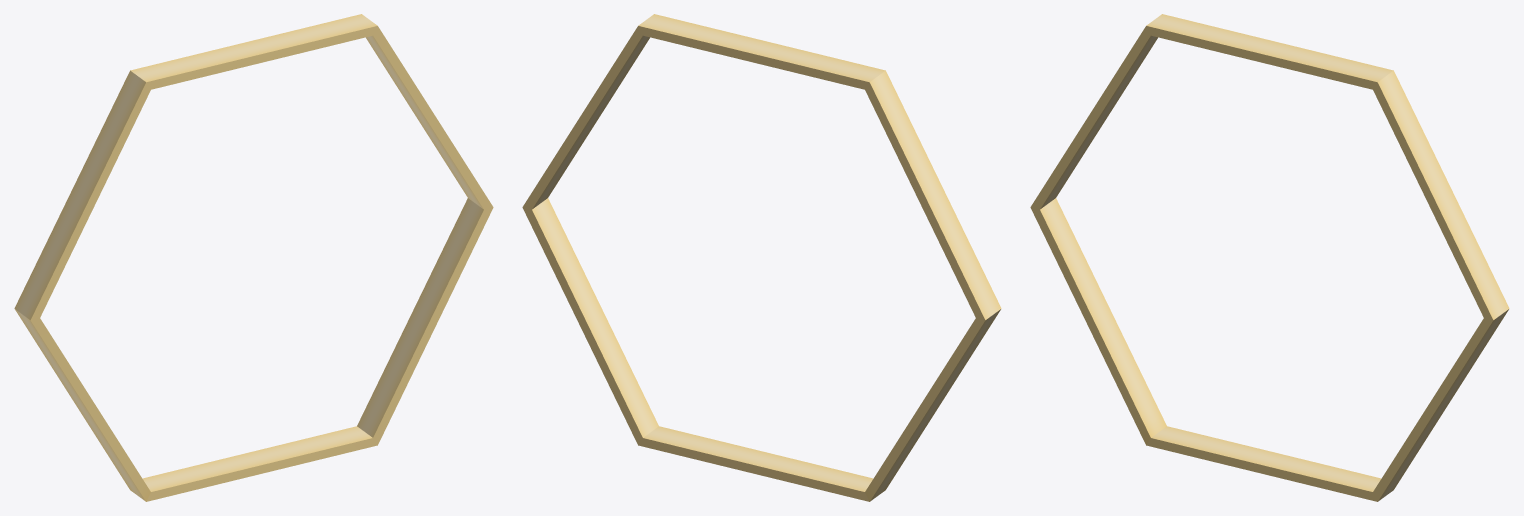
Rendered from PipeGlow.fbx.
The picture shows the model from 3 angles, left to right: view 1: azimuth 30°, elevation 25°; view 2: azimuth 150°, elevation 25°; view 3: azimuth 330°, elevation 25°; orthographic projection.
Parts seen in each view (by area): view 1: GlowInnen; view 2: GlowInnen; view 3: GlowInnen.
Boxes of the visible parts, box(x1,y1,x2,y2) form: GlowInnen: box(14, 14, 493, 501); GlowInnen: box(522, 14, 1001, 501); GlowInnen: box(1030, 14, 1509, 501).
Size of the model in its own units: 925 by 801 by 55.81.
